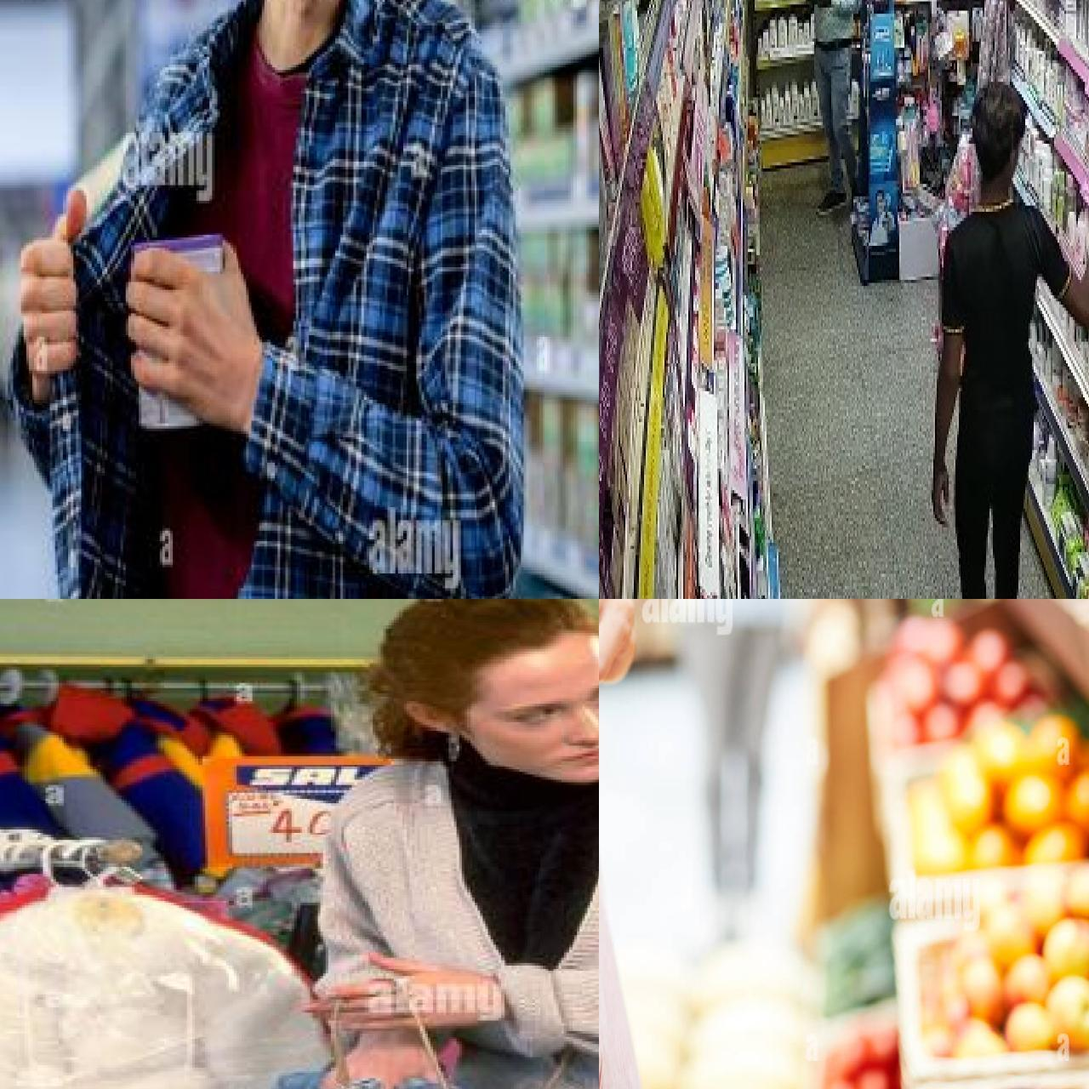shoplifting: (0, 116, 489, 574)
